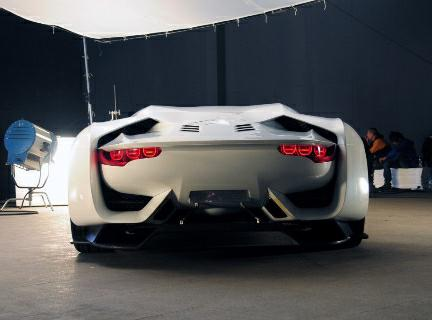雪铁龙-GT: (58, 97, 375, 260)
